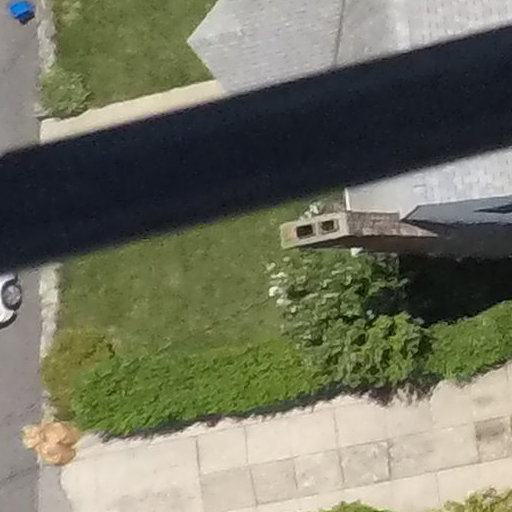trash bin: (3, 1, 37, 27)
